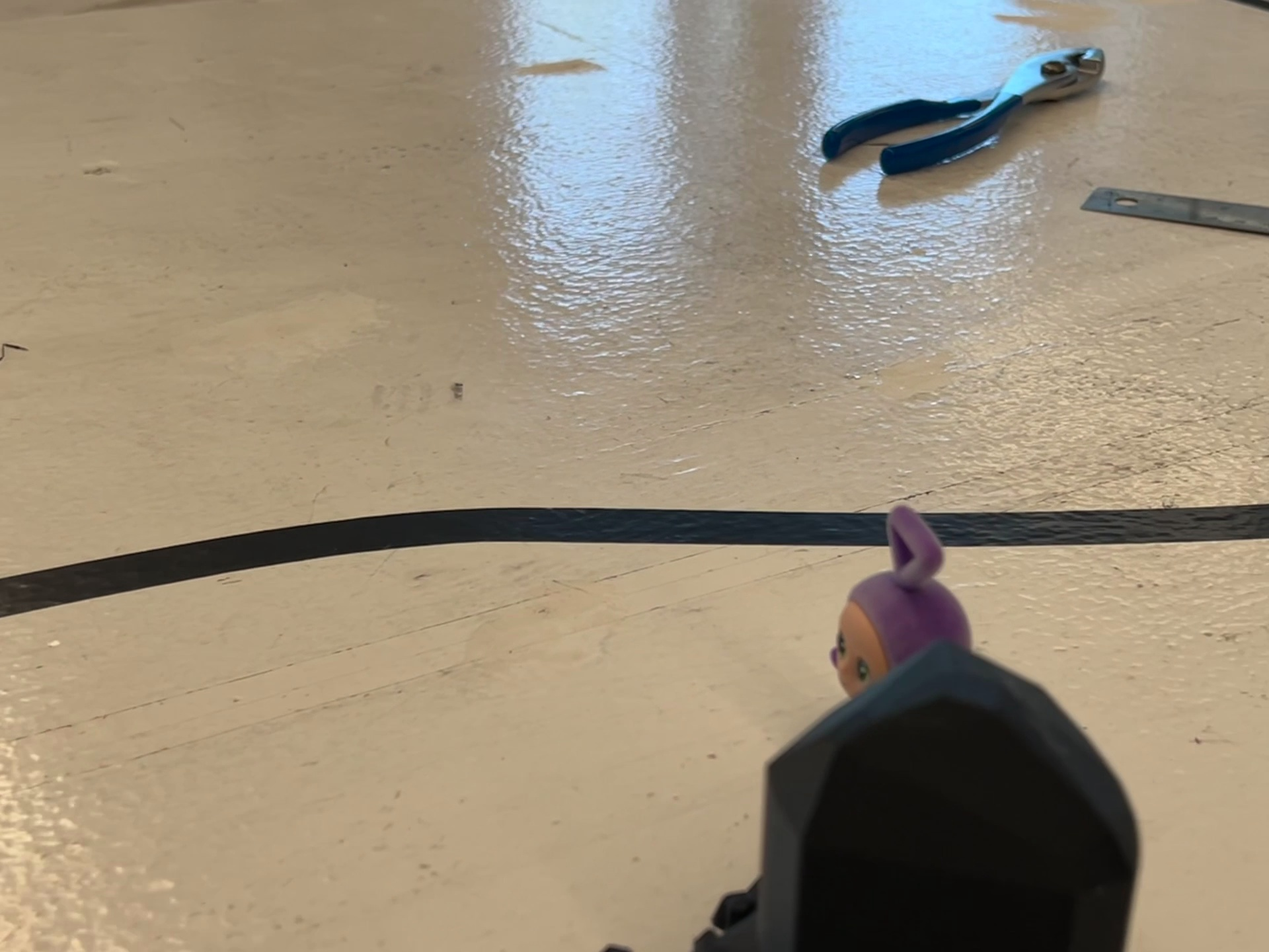teletubby: (830, 505, 972, 697)
